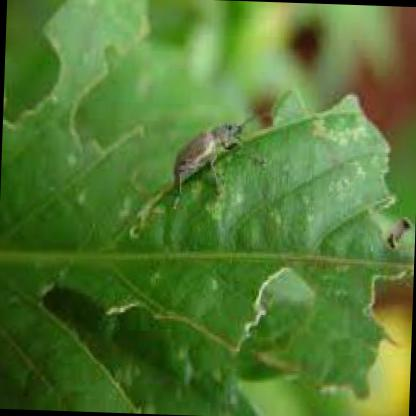ash weevil: (172, 111, 272, 196)
